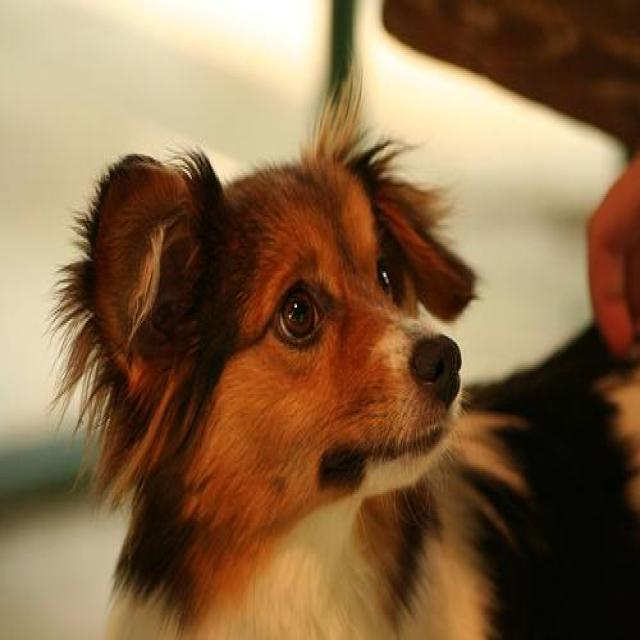papillon: (50, 65, 639, 638)
